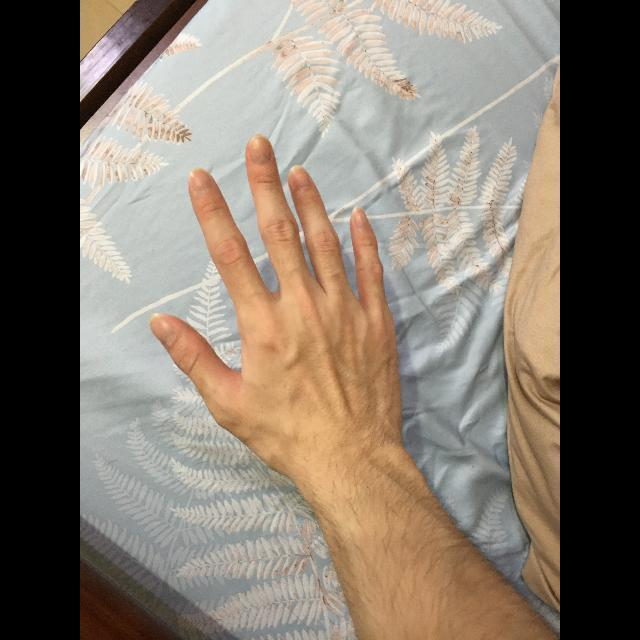bare_hand: (147, 131, 403, 463)
